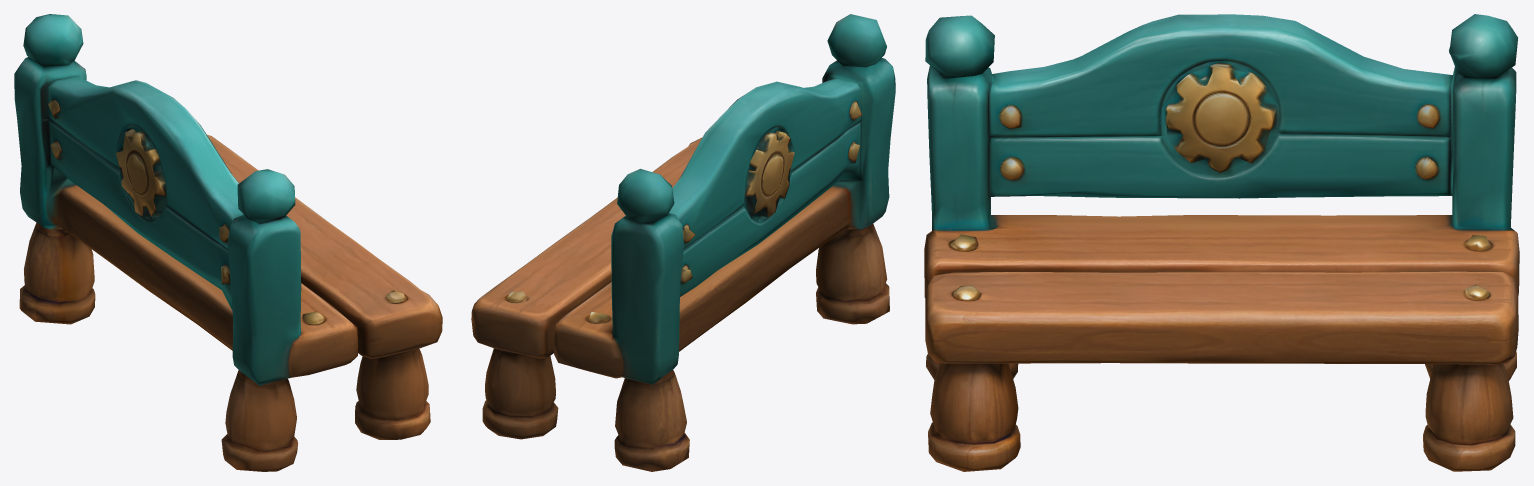
The model's file is Kit_X_Bench_raw.glb.
The picture shows the model from 3 angles, left to right: view 1: azimuth 30°, elevation 25°; view 2: azimuth 150°, elevation 25°; view 3: azimuth 270°, elevation 25°; orthographic projection. The views are drawn at different scales.
Visible parts, largest first — view 1: tripo_node_1fbf4b13-73d1-4f94-859b-7a17e252246f; view 2: tripo_node_1fbf4b13-73d1-4f94-859b-7a17e252246f; view 3: tripo_node_1fbf4b13-73d1-4f94-859b-7a17e252246f.
Part boxes in pixels (left/top/right/bottom): tripo_node_1fbf4b13-73d1-4f94-859b-7a17e252246f: left=14, top=14, right=442, bottom=471; tripo_node_1fbf4b13-73d1-4f94-859b-7a17e252246f: left=471, top=14, right=895, bottom=471; tripo_node_1fbf4b13-73d1-4f94-859b-7a17e252246f: left=924, top=14, right=1519, bottom=471.
Size of the model in its own units: 0.4803 by 0.6628 by 1.
Materials: 1 (1 with a texture image).
